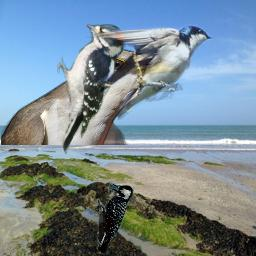Cuckoo: (1, 49, 180, 145)
Swallow: (85, 23, 213, 121)
Woodpecker: (57, 20, 127, 155), (93, 182, 135, 253)
